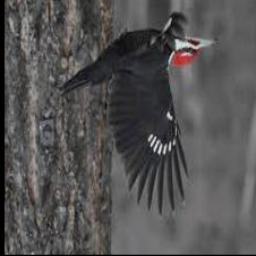Woodpecker: (58, 13, 219, 216)
